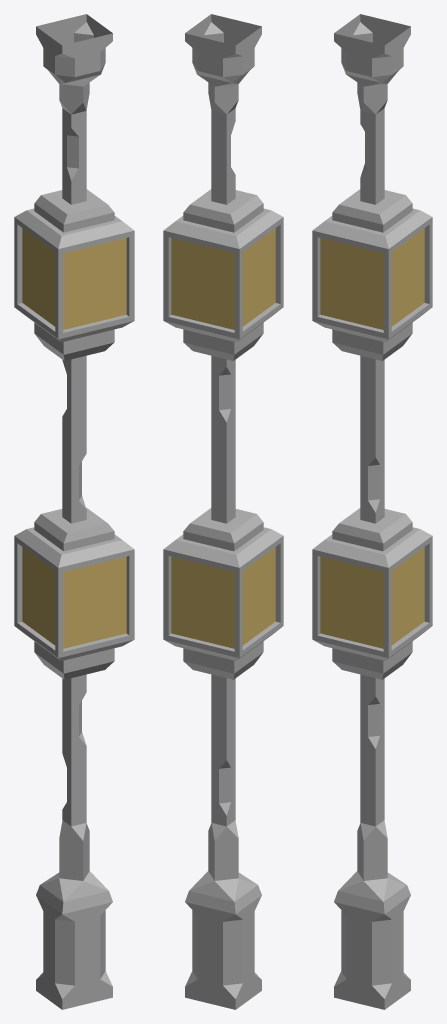
The model's file is lampadaire.fbx.
3 views of the same model, side by side, from view 1: azimuth 30°, elevation 25°; view 2: azimuth 150°, elevation 25°; view 3: azimuth 330°, elevation 25° (orthographic).
Visible parts, largest first — view 1: Cube.009; view 2: Cube.009; view 3: Cube.009.
Part boxes in pixels (bbox=[...]): Cube.009: bbox=[14, 14, 134, 1009]; Cube.009: bbox=[163, 14, 283, 1009]; Cube.009: bbox=[312, 14, 432, 1009].
Size of the model in its own units: 0.0199 by 0.2405 by 0.0199.
